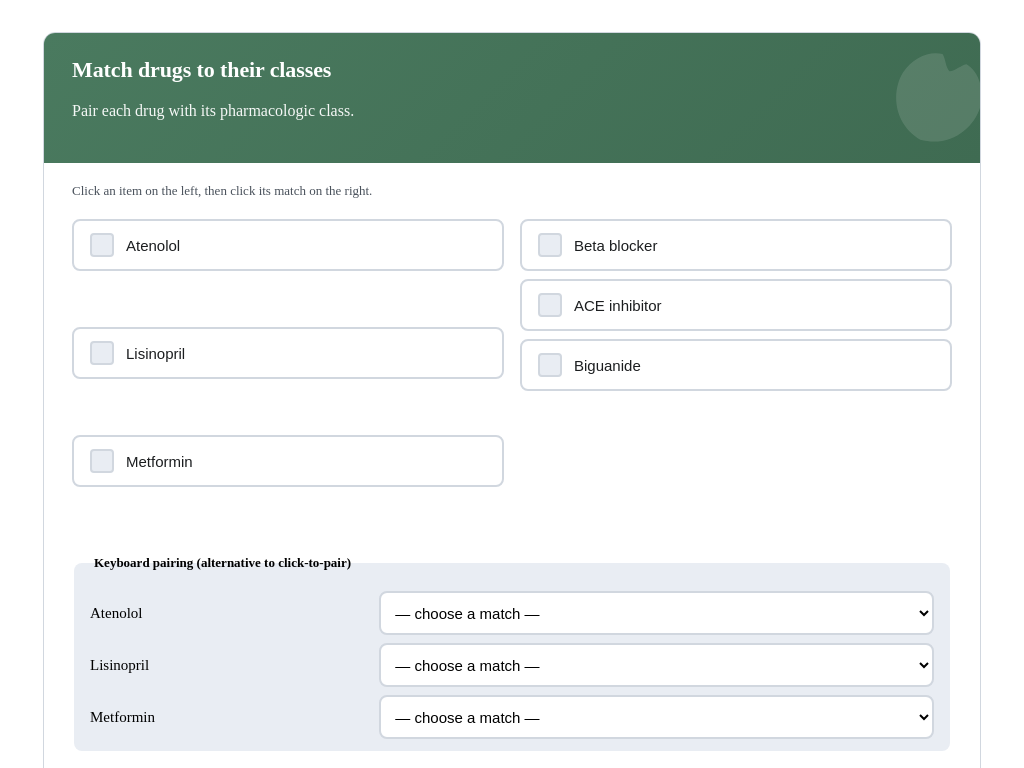
Test: MatchingPairs › clicking a right that is already paired swaps the connection
Click the button "Atenolol".
click(153, 245)  # box [72, 219, 504, 271]
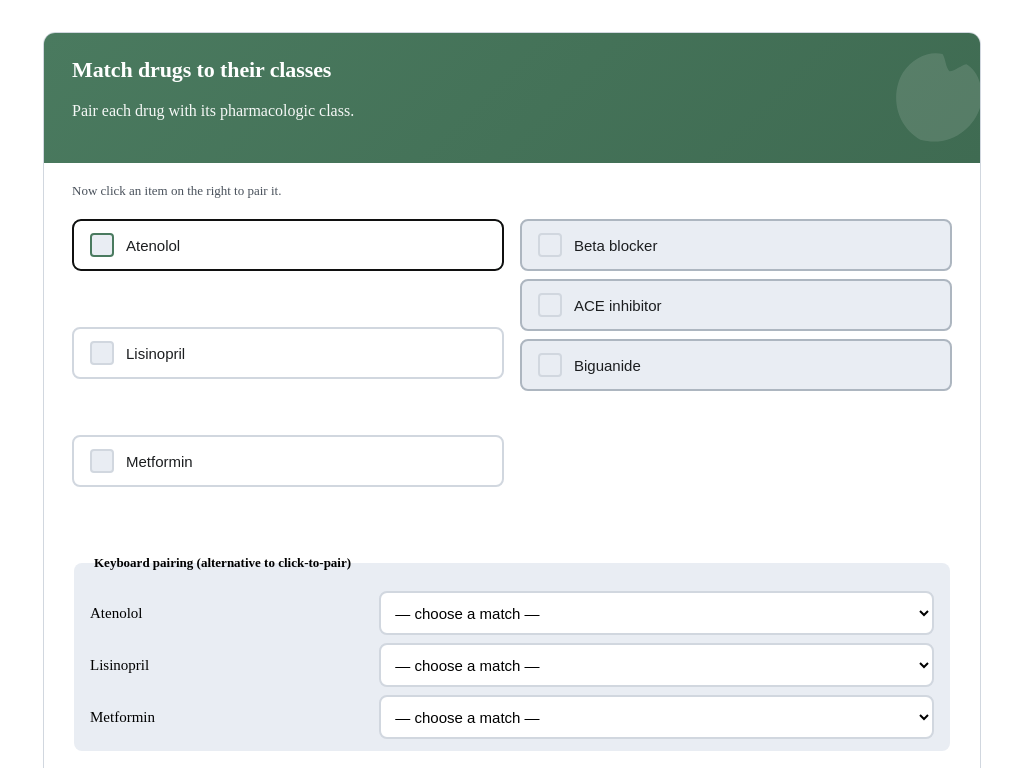
Click the button "Beta blocker".
click(616, 245)  # box [520, 219, 952, 271]
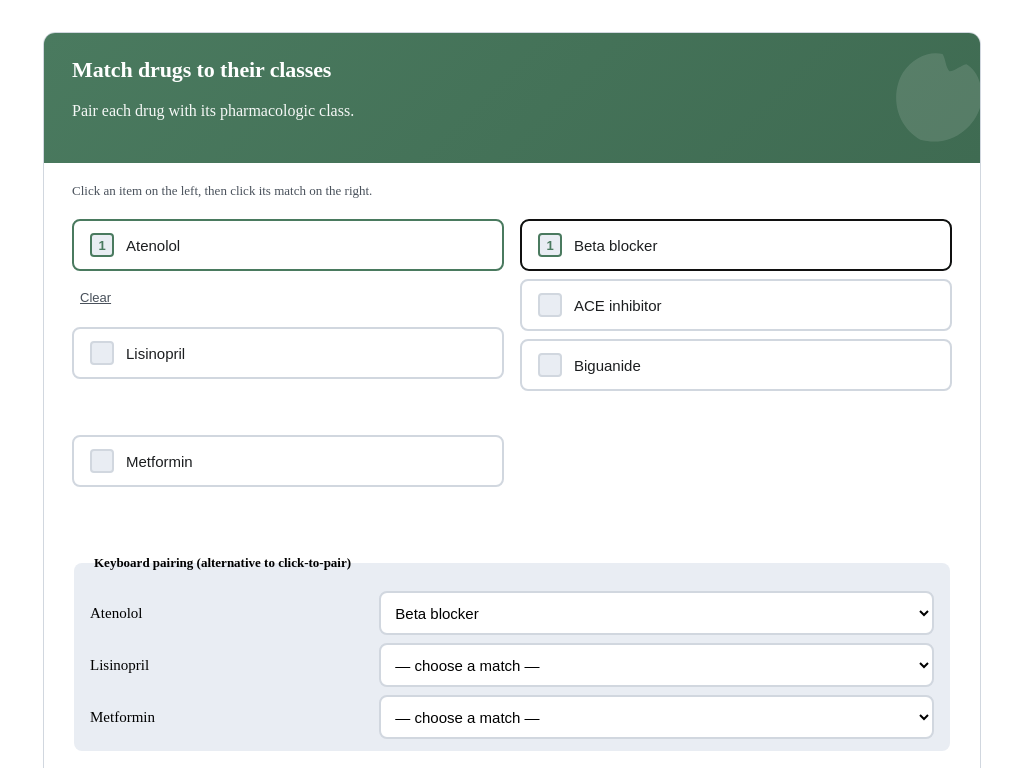
Click the button "Lisinopril".
click(156, 353)  # box [72, 327, 504, 379]
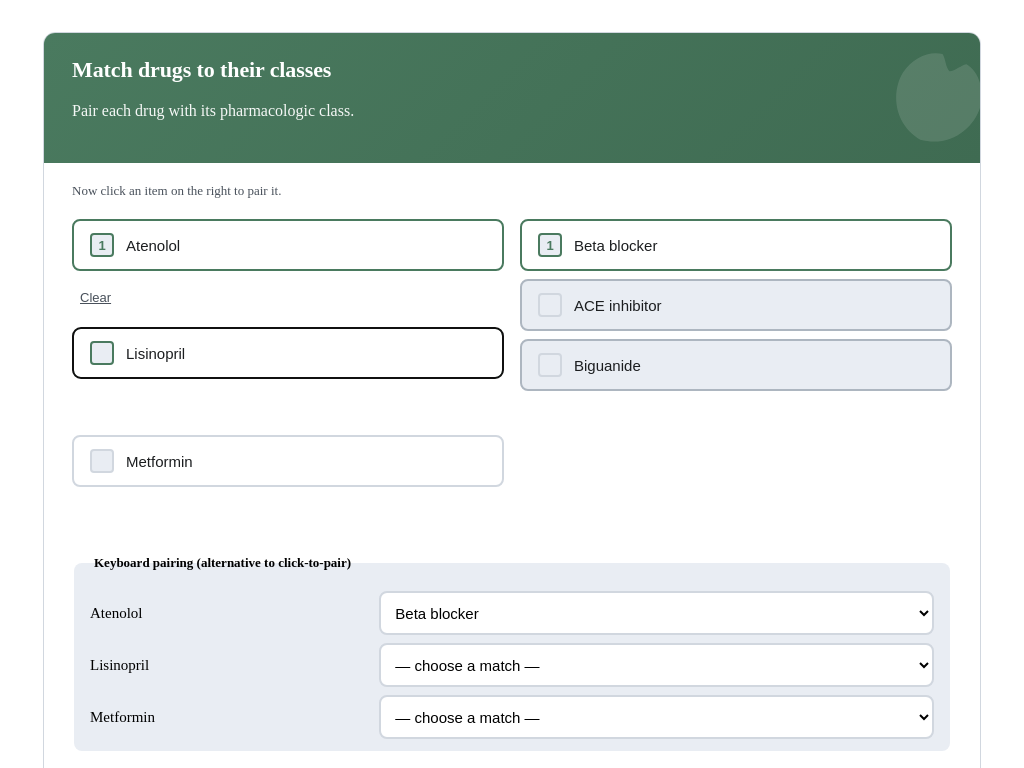
Click the button "1 Beta blocker".
click(616, 245)  # box [520, 219, 952, 271]
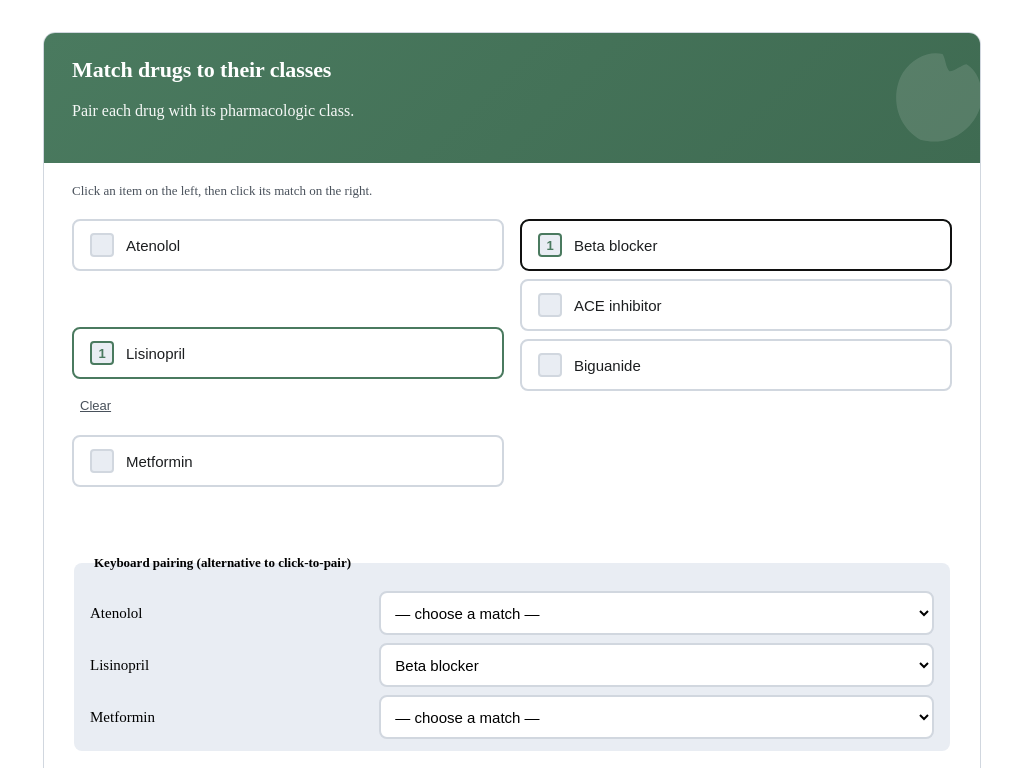
Expected: the dropdown labelled "Atenolol" shows "— choose a match —", [379, 591, 934, 635]
Expected: the dropdown labelled "Lisinopril" shows "Beta blocker", [379, 643, 934, 687]
